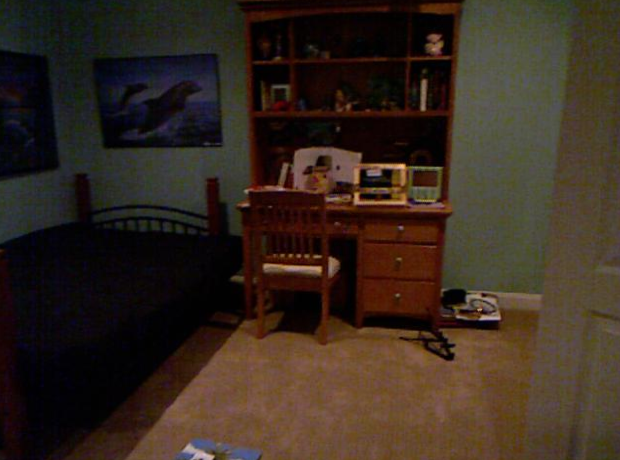cabinetDoor: (367, 246, 431, 278), (366, 282, 429, 309), (370, 219, 434, 240)
chair: (249, 186, 329, 342)
table: (240, 191, 451, 230)
